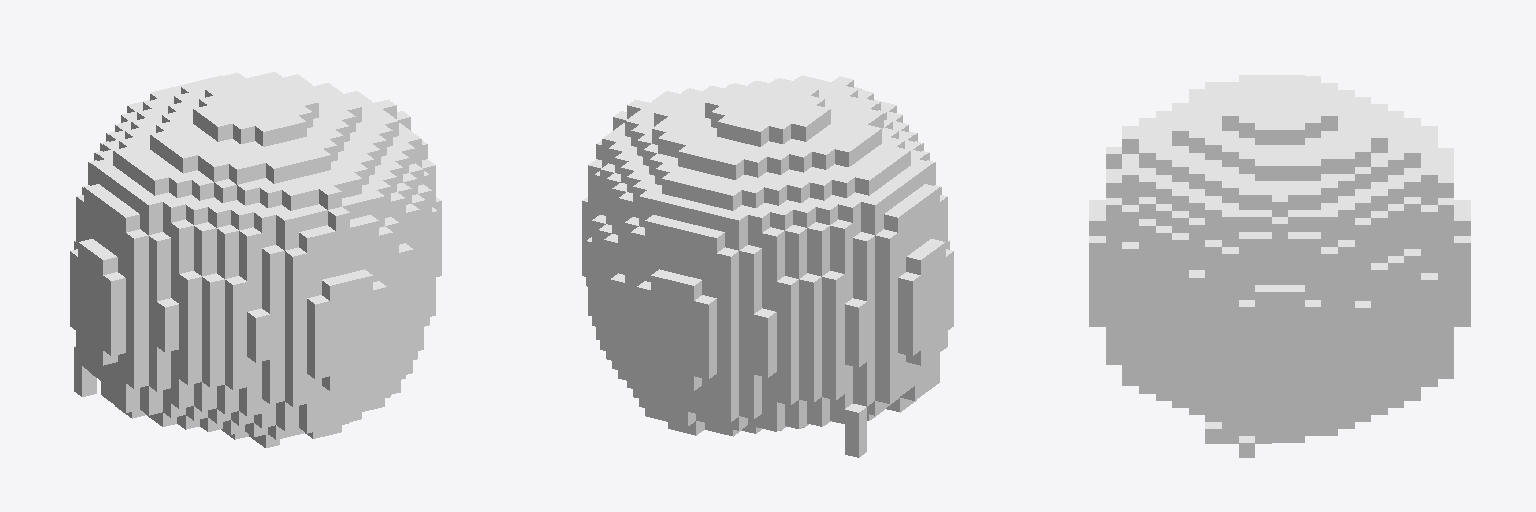
Rendered from PookaInflate3Quarter.obj.
3 renders of one model, left to right at view 1: azimuth 30°, elevation 25°; view 2: azimuth 150°, elevation 25°; view 3: azimuth 270°, elevation 25°, orthographic.
Visible parts, largest first — view 1: object 1; view 2: object 1; view 3: object 1.
Part boxes in pixels (left/top/right/bottom): object 1: left=70, top=72, right=441, bottom=447; object 1: left=582, top=75, right=953, bottom=457; object 1: left=1089, top=75, right=1470, bottom=457.
Bounding box in the file's own units: 2.3 × 2 × 2.3.